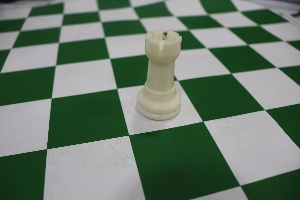white_rook: (129, 22, 190, 134)
